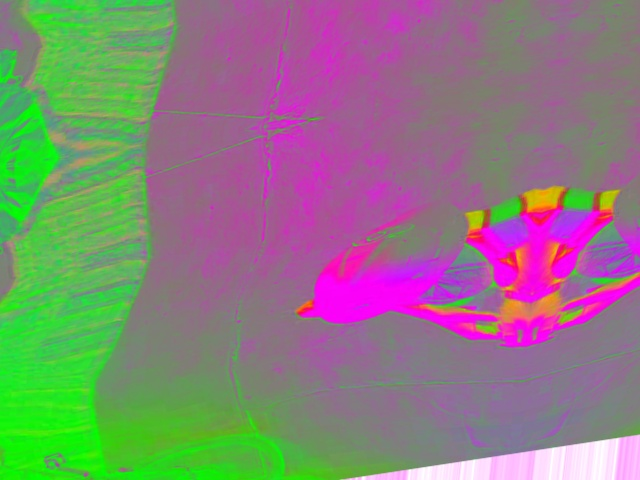eight: (347, 218, 416, 251)
